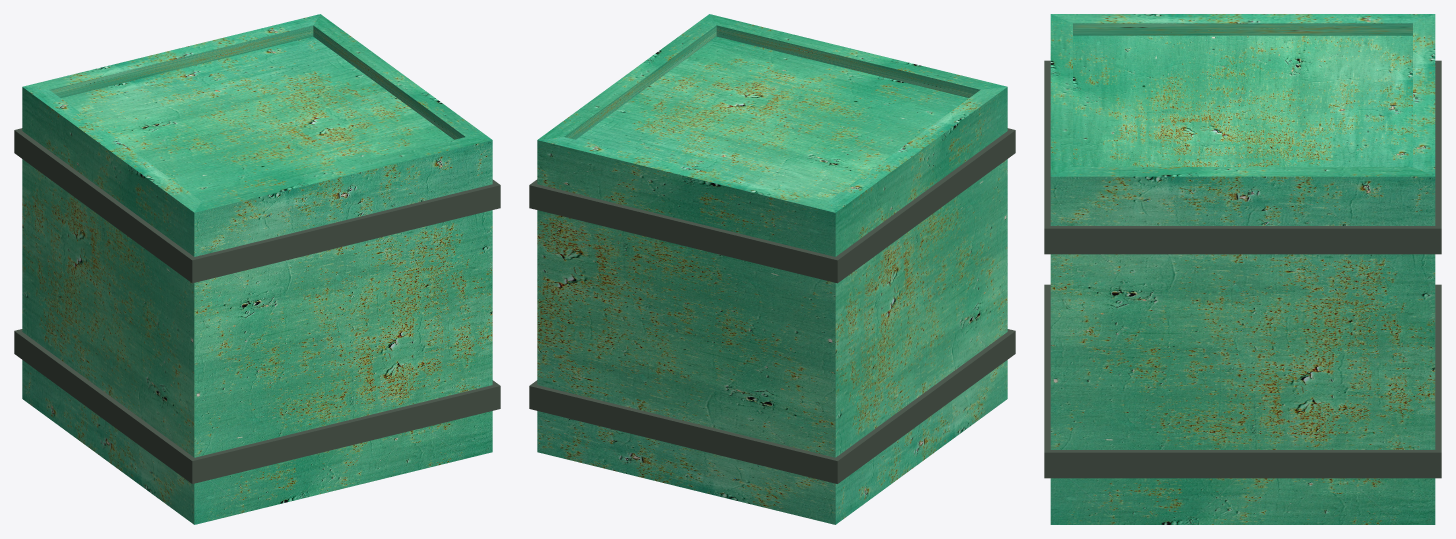
File: greenBox2.fbx
3 renders of one model, left to right at view 1: azimuth 30°, elevation 25°; view 2: azimuth 150°, elevation 25°; view 3: azimuth 270°, elevation 25°, orthographic. The views are drawn at different scales.
Visible parts, largest first — view 1: pCube1; view 2: pCube1; view 3: pCube1.
Boxes of the visible parts, left/top/right/bottom form: pCube1: left=14, top=14, right=500, bottom=524; pCube1: left=529, top=14, right=1015, bottom=524; pCube1: left=1044, top=14, right=1441, bottom=524.
Size of the model in its own units: 6.42 by 6.2 by 6.42.
2 materials, 1 textured.
